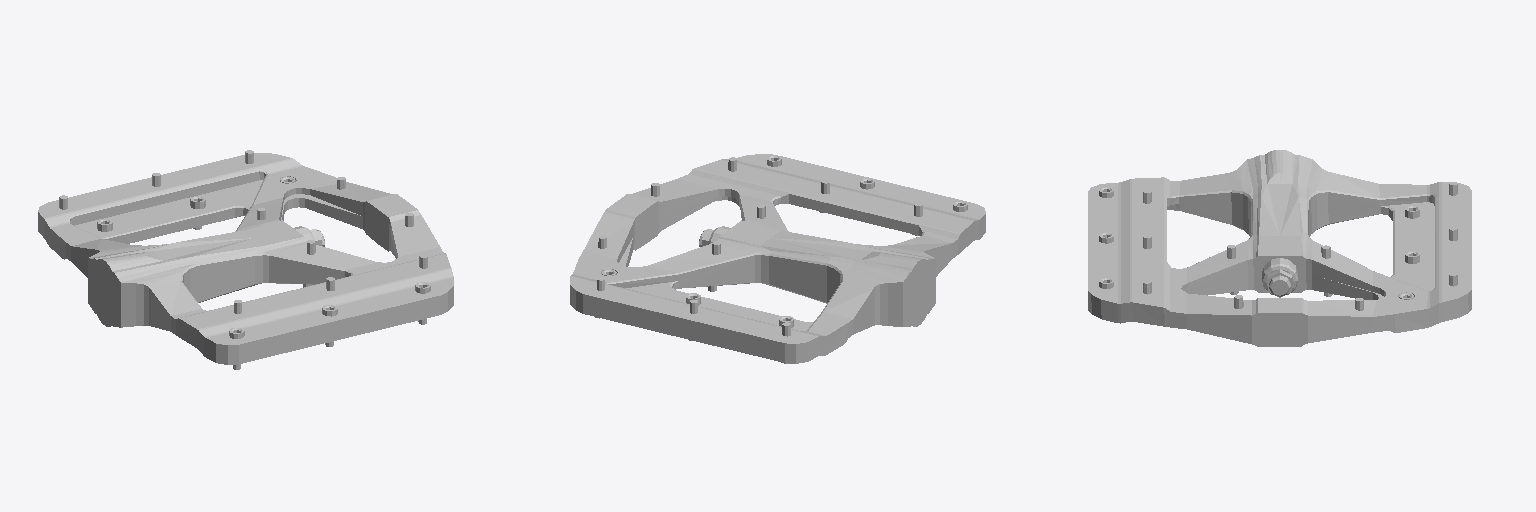
The model's file is MTB_Pedal-sharedassets2MTB.assets-17019.obj.
3 views of the same model, side by side, from view 1: azimuth 30°, elevation 25°; view 2: azimuth 150°, elevation 25°; view 3: azimuth 270°, elevation 25° (orthographic).
Visible parts, largest first — view 1: MTB_Pedal_0; view 2: MTB_Pedal_0; view 3: MTB_Pedal_0.
Part boxes in pixels (x1,y1,x2,y2): MTB_Pedal_0: (38, 150, 453, 369); MTB_Pedal_0: (570, 154, 985, 363); MTB_Pedal_0: (1088, 150, 1471, 346).
Size of the model in its own units: 0.0866 by 0.0177 by 0.0951.